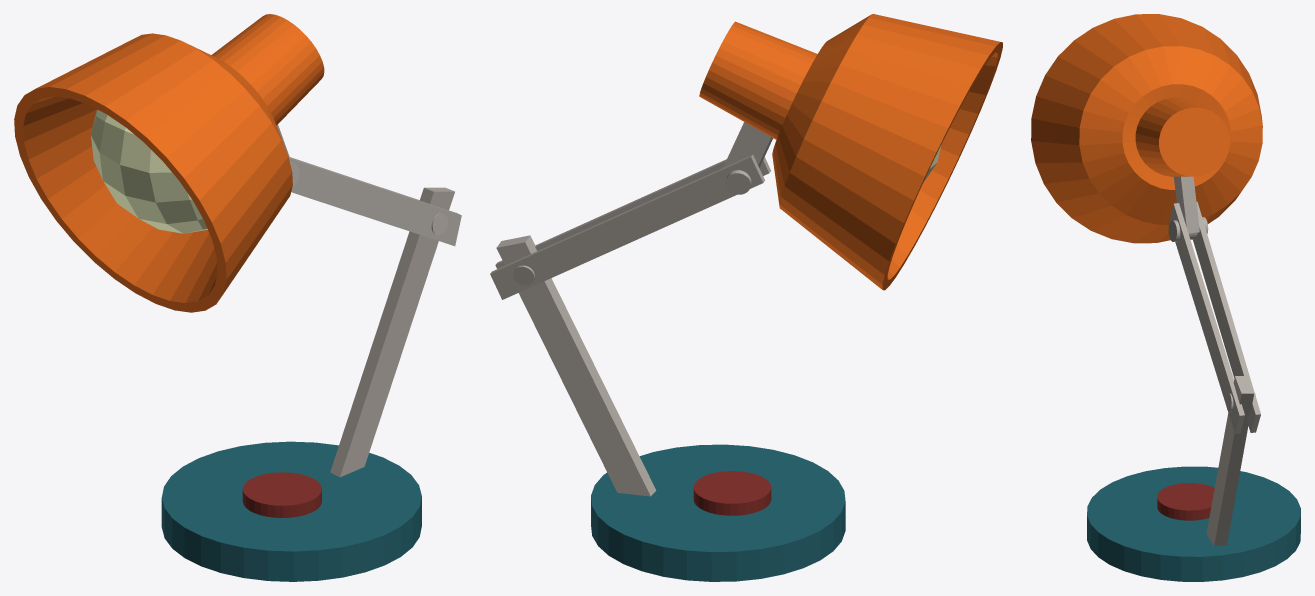
File: lamp.glb
3 views of the same model, side by side, from view 1: azimuth 30°, elevation 25°; view 2: azimuth 150°, elevation 25°; view 3: azimuth 270°, elevation 25° (orthographic). The views are drawn at different scales.
Parts seen in each view (by area): view 1: lamp; view 2: lamp; view 3: lamp.
Boxes of the visible parts, x1,y1,x2,y2 form: lamp: [14, 14, 461, 581]; lamp: [490, 14, 1002, 581]; lamp: [1031, 14, 1300, 581].
Bounding box in the file's own units: 1.37 × 1.54 × 0.8612.
